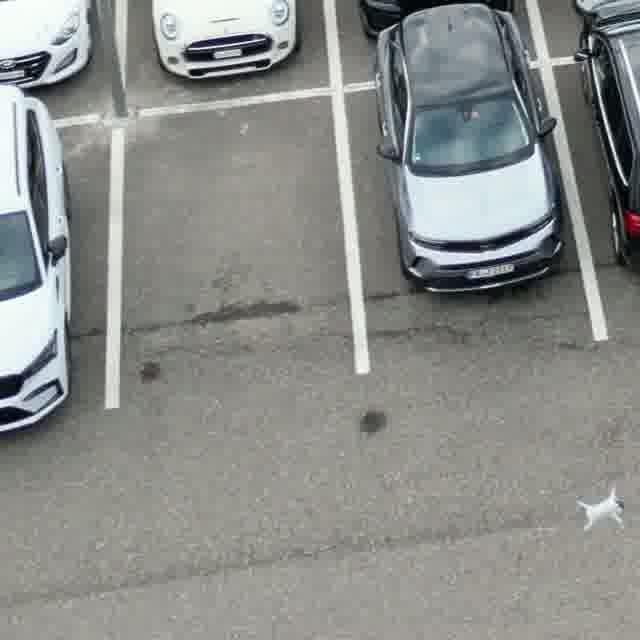Drohne: (577, 486, 623, 530)
